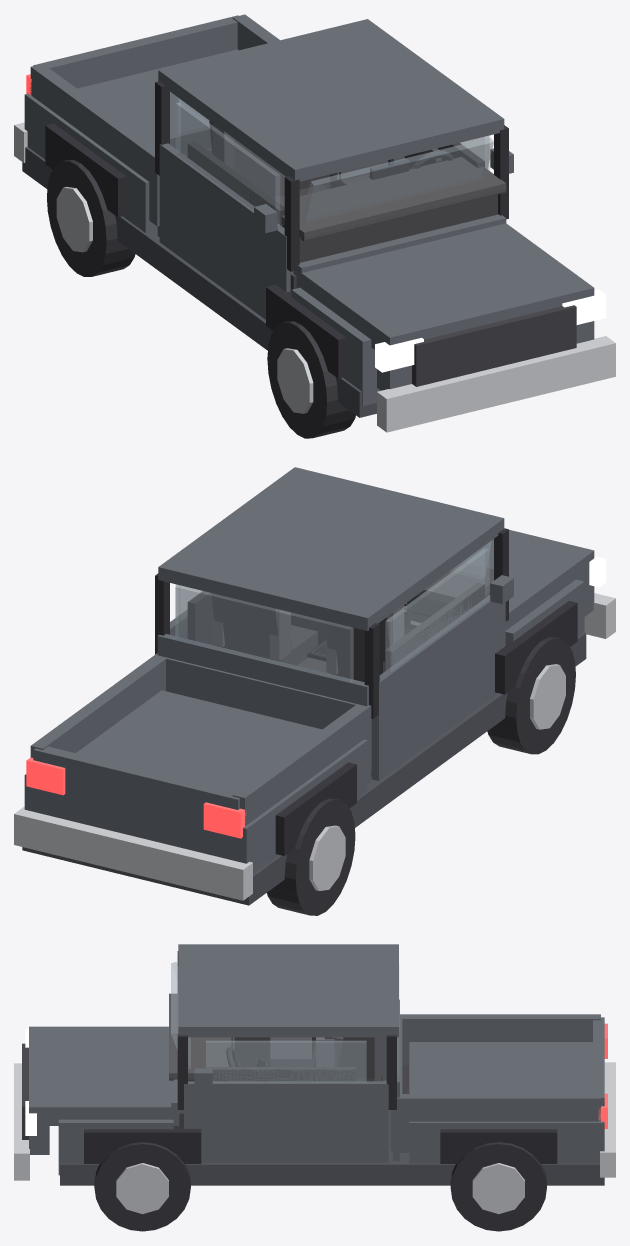
Rendered from truck-DYbo0C6R.glb.
3 views of the same model, one above another, from view 1: azimuth 30°, elevation 25°; view 2: azimuth 150°, elevation 25°; view 3: azimuth 270°, elevation 25° (orthographic). The views are drawn at different scales.
Parts seen in each view (by area): view 1: CabRoof, Hood, CabSideL, BumperF, DashTopPad, BodyRear, Grille, Windshield, BodyClad, Tailgate, BedWallL, WinSideL (+24 smaller); view 2: CabRoof, BodyRear, CabSideL, RearWindow, BumperR, BodyClad, BedFrontW, Tailgate, WinSideL, BedWallL, CabRearWall, Hood (+24 smaller); view 3: CabRoof, CabSideR, BodyRear, Hood, BodyClad, WinSideR, BedWallR, BedWallL, Tire_1_2, Tire_1_-2, Arch_1_2, Arch_1_-2 (+18 smaller).
Part boxes in pixels (box(x1,y1,x2,y2)): CabRoof: box(158, 19, 504, 181); Hood: box(293, 223, 591, 349); CabSideL: box(159, 143, 293, 319); BumperF: box(377, 336, 615, 432); DashTopPad: box(278, 157, 506, 240); BodyRear: box(24, 49, 238, 232); Grille: box(412, 305, 576, 386); Windshield: box(302, 137, 493, 222); BodyClad: box(22, 147, 376, 417); Tailgate: box(33, 15, 238, 88); BedWallL: box(30, 64, 159, 226); WinSideL: box(175, 102, 280, 225); CabRoof: box(158, 467, 504, 630); BodyRear: box(24, 690, 367, 874); CabSideL: box(371, 595, 505, 780); RearWindow: box(175, 585, 353, 681); BumperR: box(14, 807, 252, 900); BodyClad: box(22, 632, 586, 905); BedFrontW: box(166, 657, 363, 729); Tailgate: box(33, 746, 239, 849); WinSideL: box(385, 548, 489, 671); BedWallL: box(232, 704, 371, 825); CabRearWall: box(157, 634, 371, 784); Hood: box(463, 532, 591, 630); CabRoof: box(178, 944, 398, 1037); CabSideR: box(184, 1081, 388, 1163); BodyRear: box(409, 1042, 604, 1163); Hood: box(33, 1026, 183, 1125); BodyClad: box(60, 1079, 604, 1185); WinSideR: box(206, 1040, 366, 1082); BedWallR: box(396, 1094, 600, 1152); BedWallL: box(400, 1014, 600, 1064); Tire_1_2: box(94, 1142, 190, 1231); Tire_1_-2: box(450, 1142, 546, 1231); Arch_1_2: box(84, 1126, 201, 1163); Arch_1_-2: box(440, 1129, 557, 1163).
Bounding box in the file's own units: 2.08 × 1.89 × 5.24.
